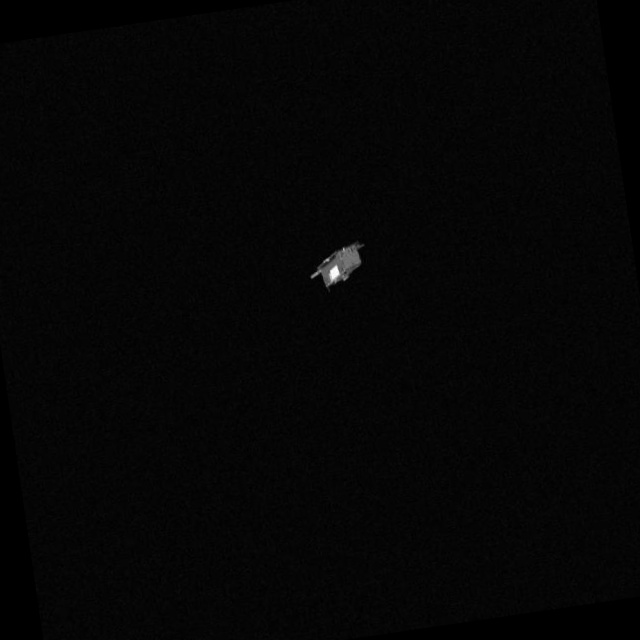medium_debris: (297, 236, 389, 296)
